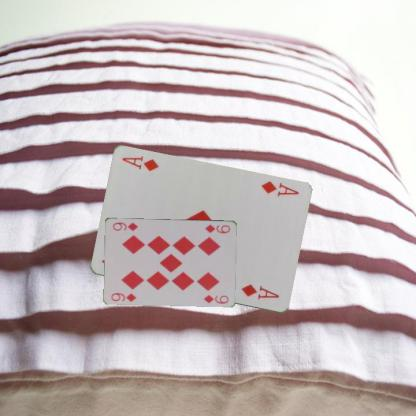9d: (203, 221, 231, 235), (108, 290, 138, 303)
Ad: (258, 179, 300, 198)
